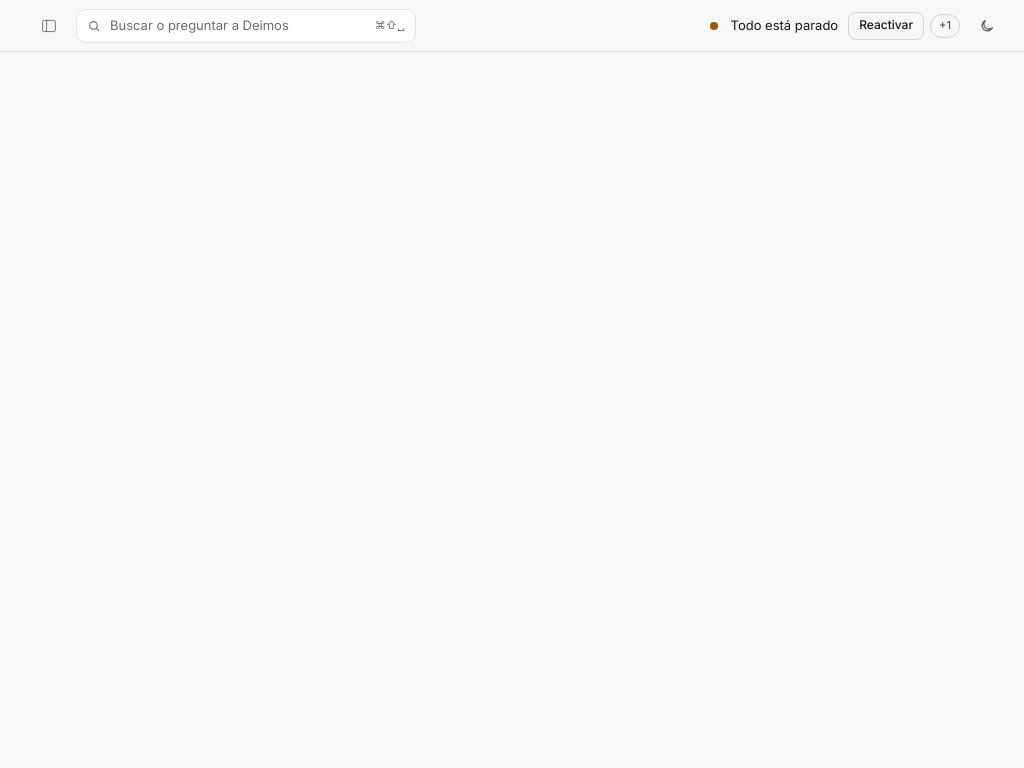
Test: the top bar › shows one notice at a time, the most important, and the rest when asked
Expected: the message shows "Todo está parado", left=730, top=17, right=838, bottom=33
Expected: the message does not show "micrófono"
Step 1. Click the button named "Ver 1 aviso más" → click(945, 26), box left=930, top=14, right=960, bottom=38
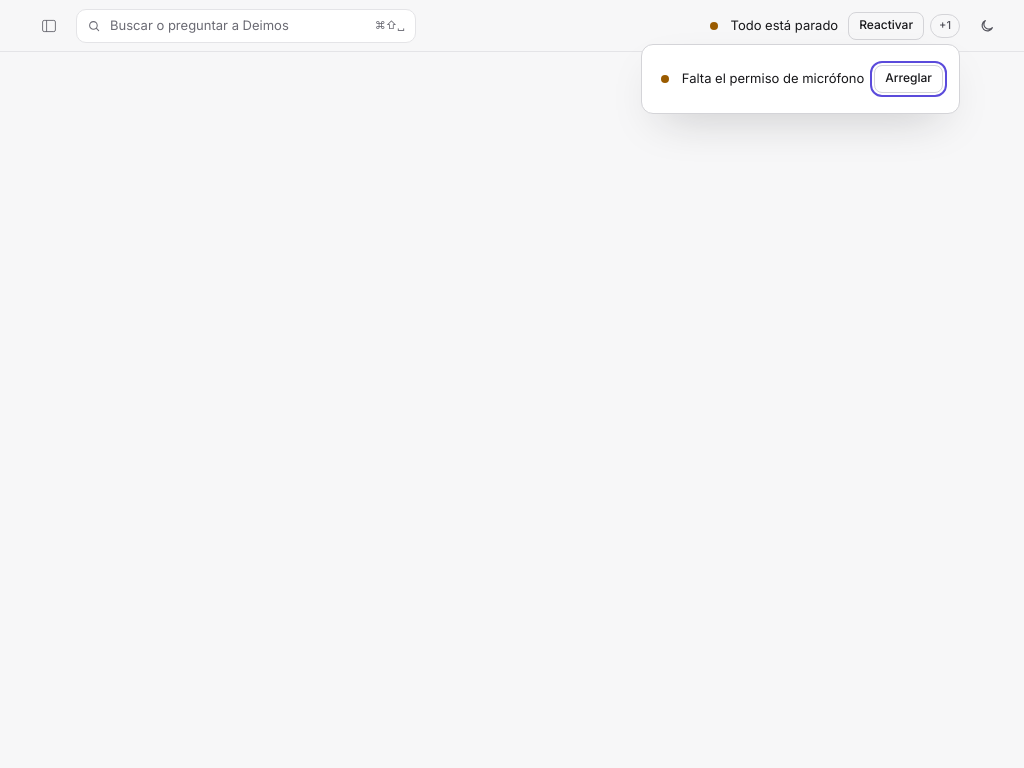
Now the dialog named "Avisos" shows "Falta el permiso de micrófono", box left=682, top=70, right=864, bottom=86
